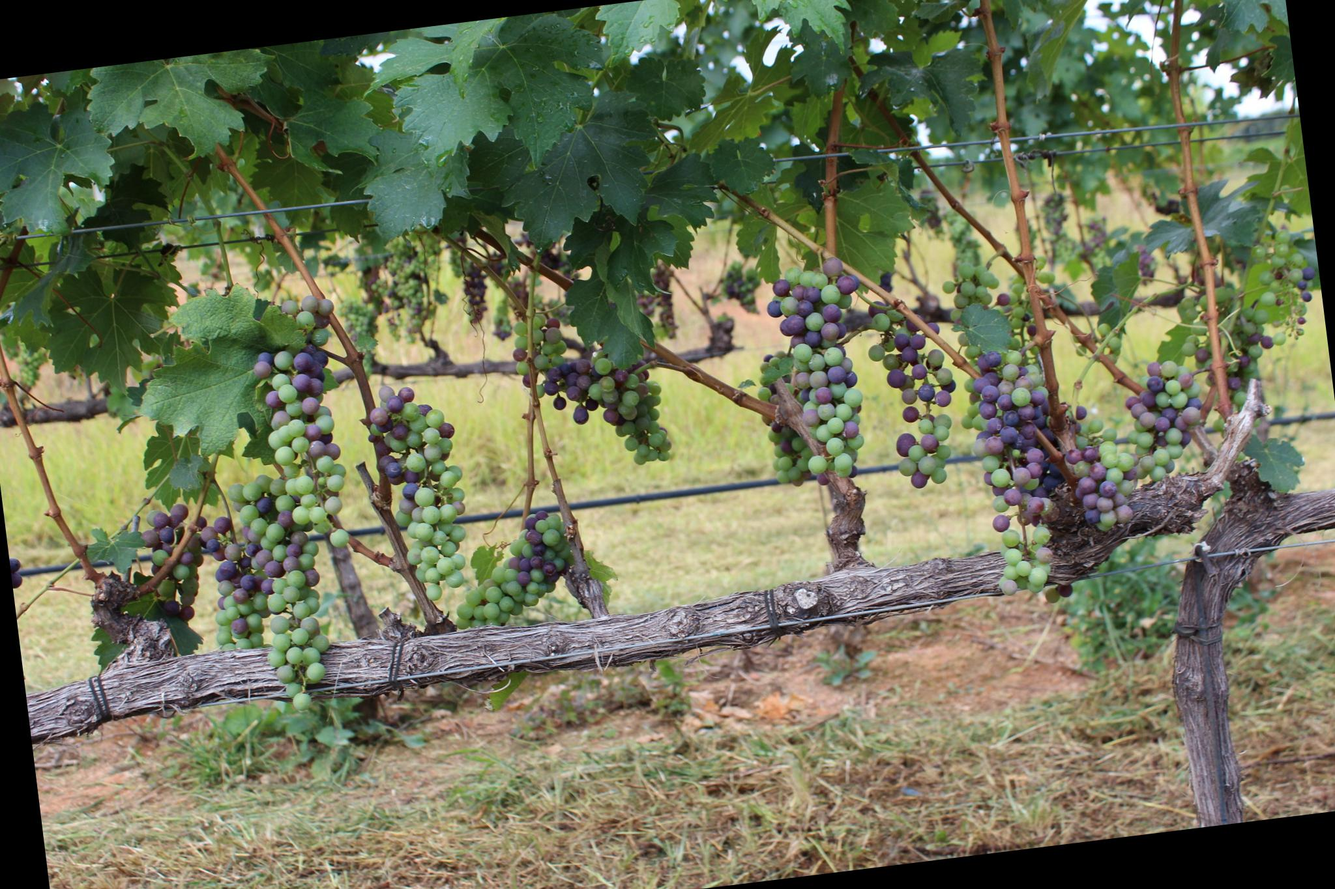Grape Unripe: (1210, 232, 1327, 390)
